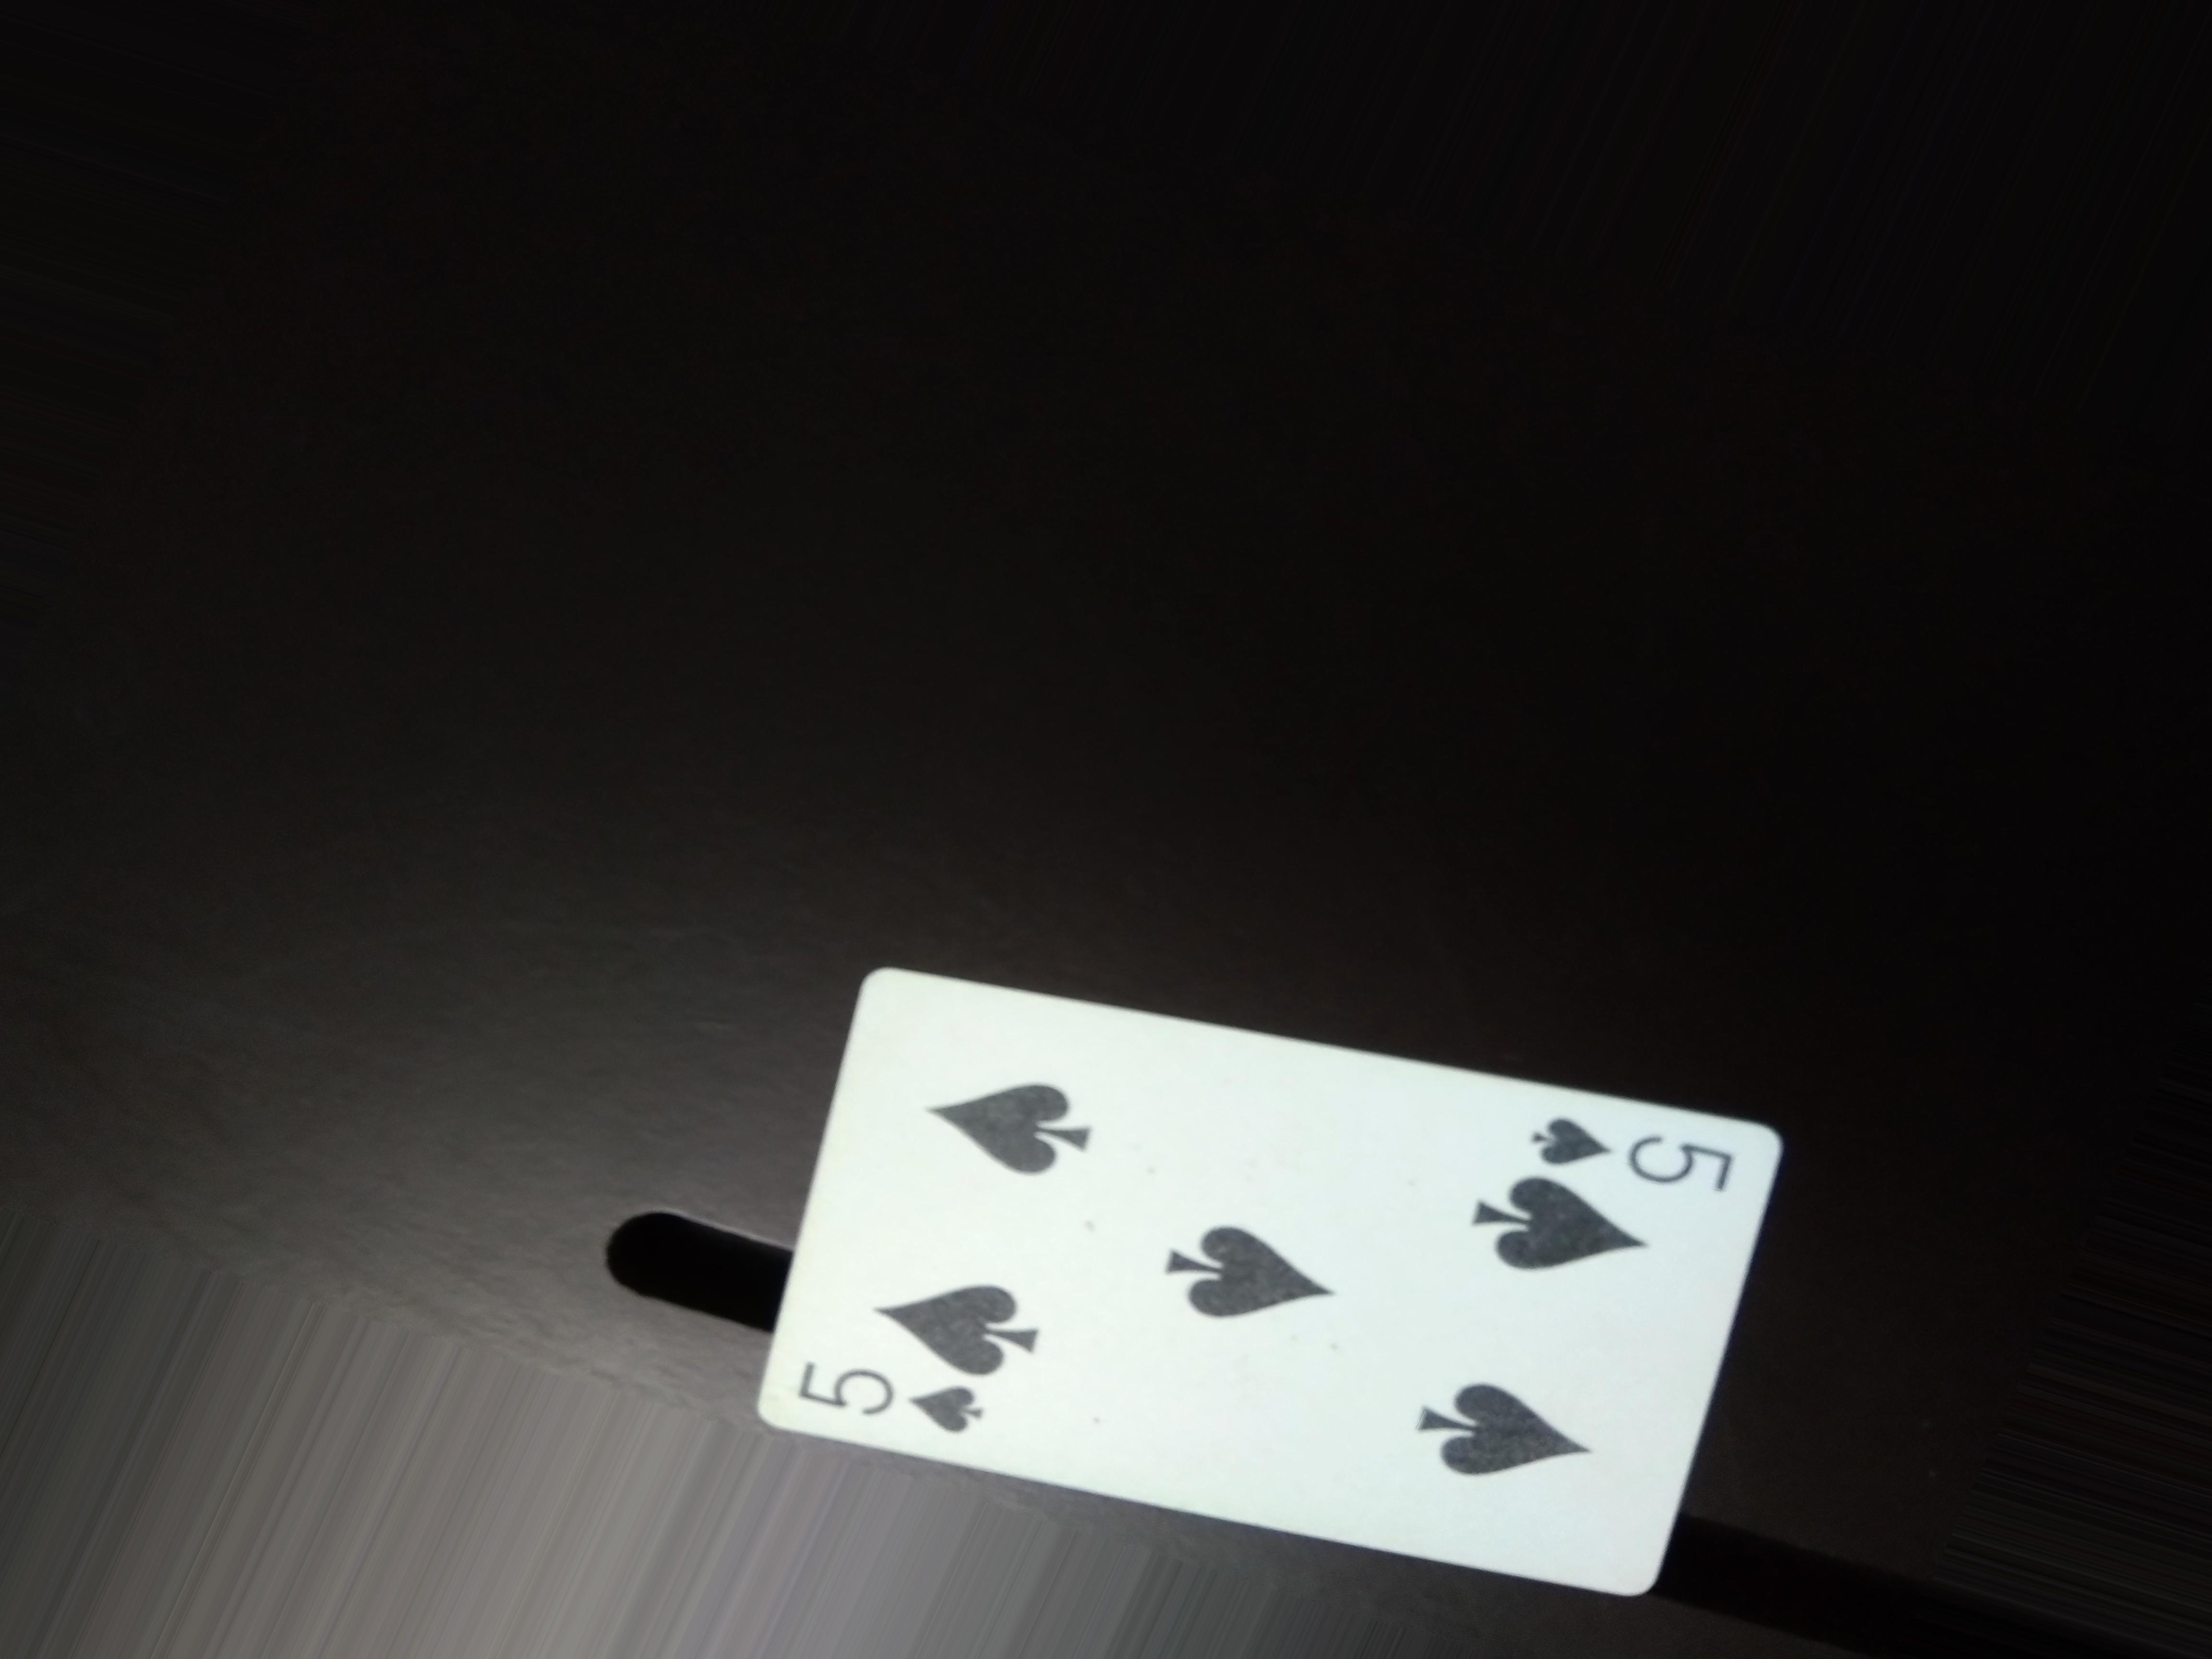5S: (1498, 1112, 1747, 1195)
